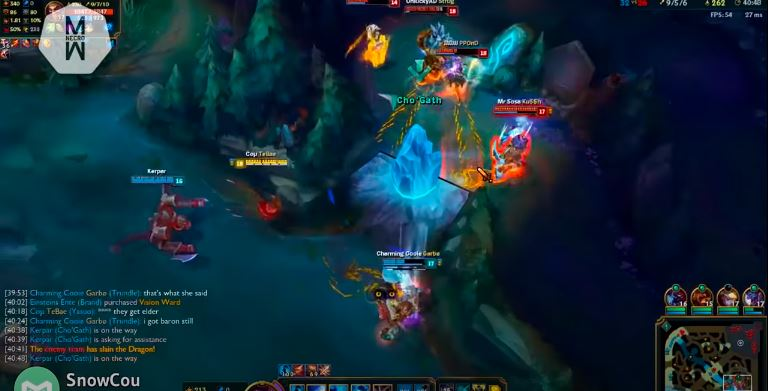bar: (227, 151, 291, 168), (431, 44, 492, 60), (396, 3, 461, 18), (493, 103, 552, 119), (130, 173, 188, 189), (380, 256, 441, 270), (340, 1, 402, 9)
